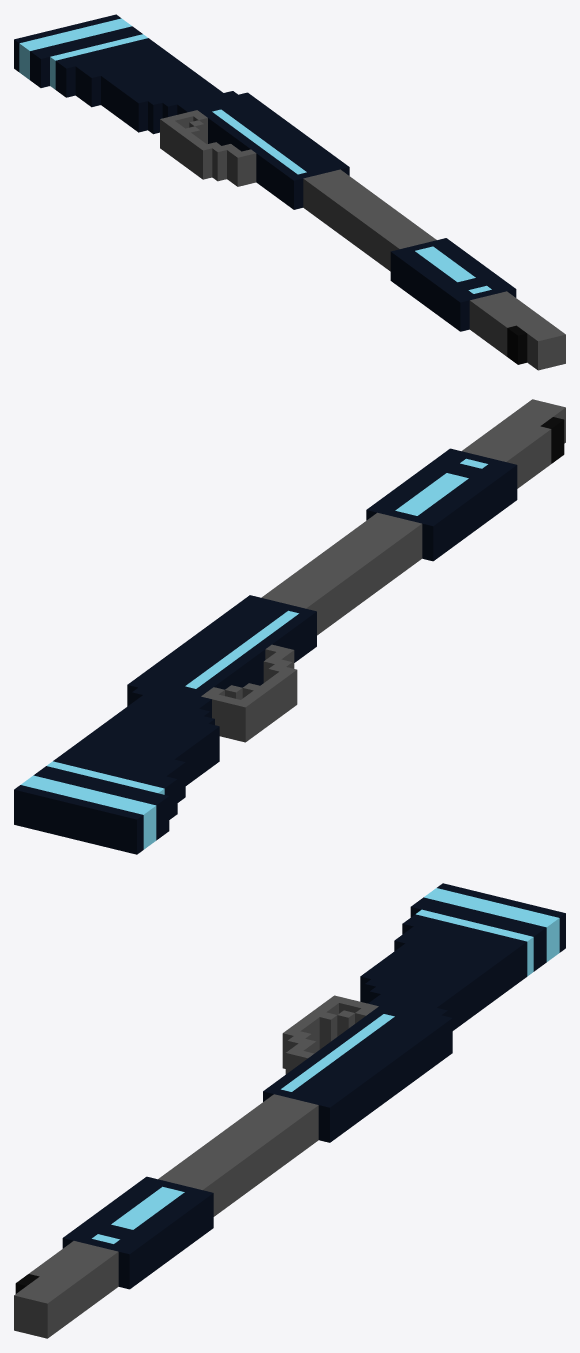
Rendered from Shot gun.obj.
3 views of the same model, one above another, from view 1: azimuth 30°, elevation 25°; view 2: azimuth 150°, elevation 25°; view 3: azimuth 330°, elevation 25° (orthographic). The views are drawn at different scales.
Size of the model in its own units: 1.3 by 0.3 by 8.2.
Materials: 1 (1 with a texture image).
